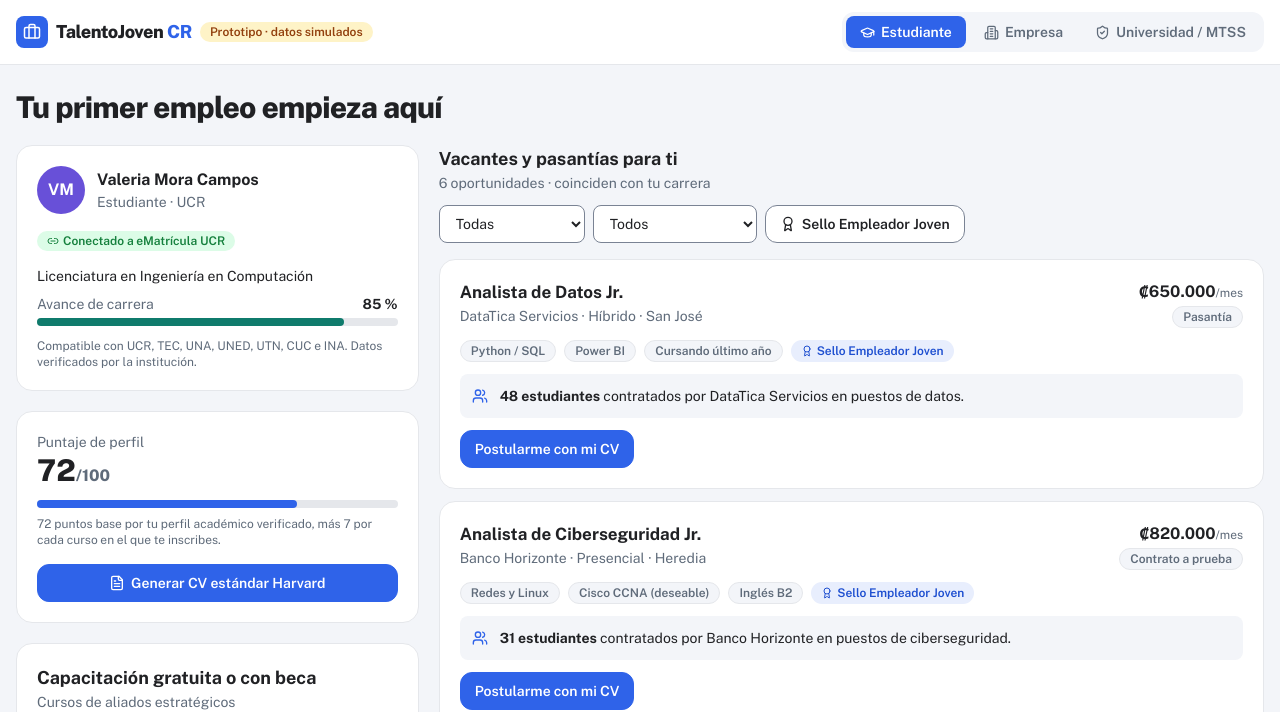
Test: rutas › los enlaces del Header cambian de vista
Click the link "Empresa".
click(1023, 32)  # box [984,24,1063,40]
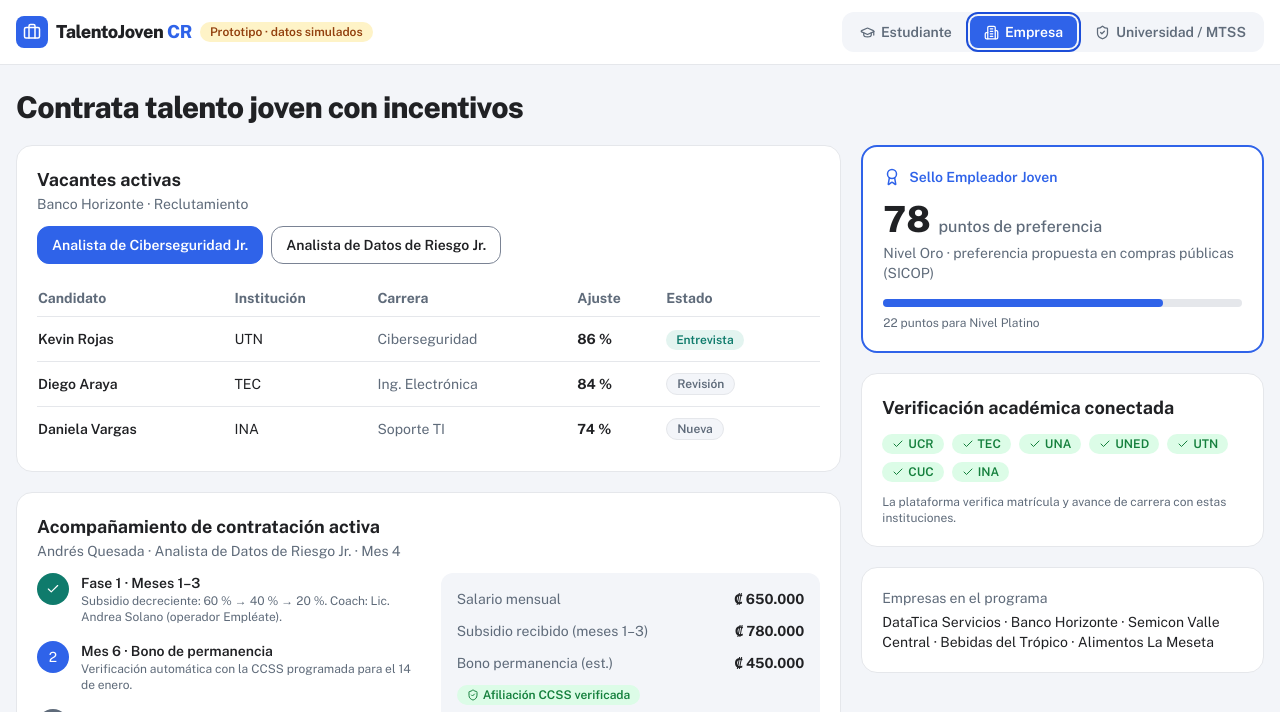
Expected: the heading "Contrata talento joven con incentivos" is shown, [16,89,523,125]
